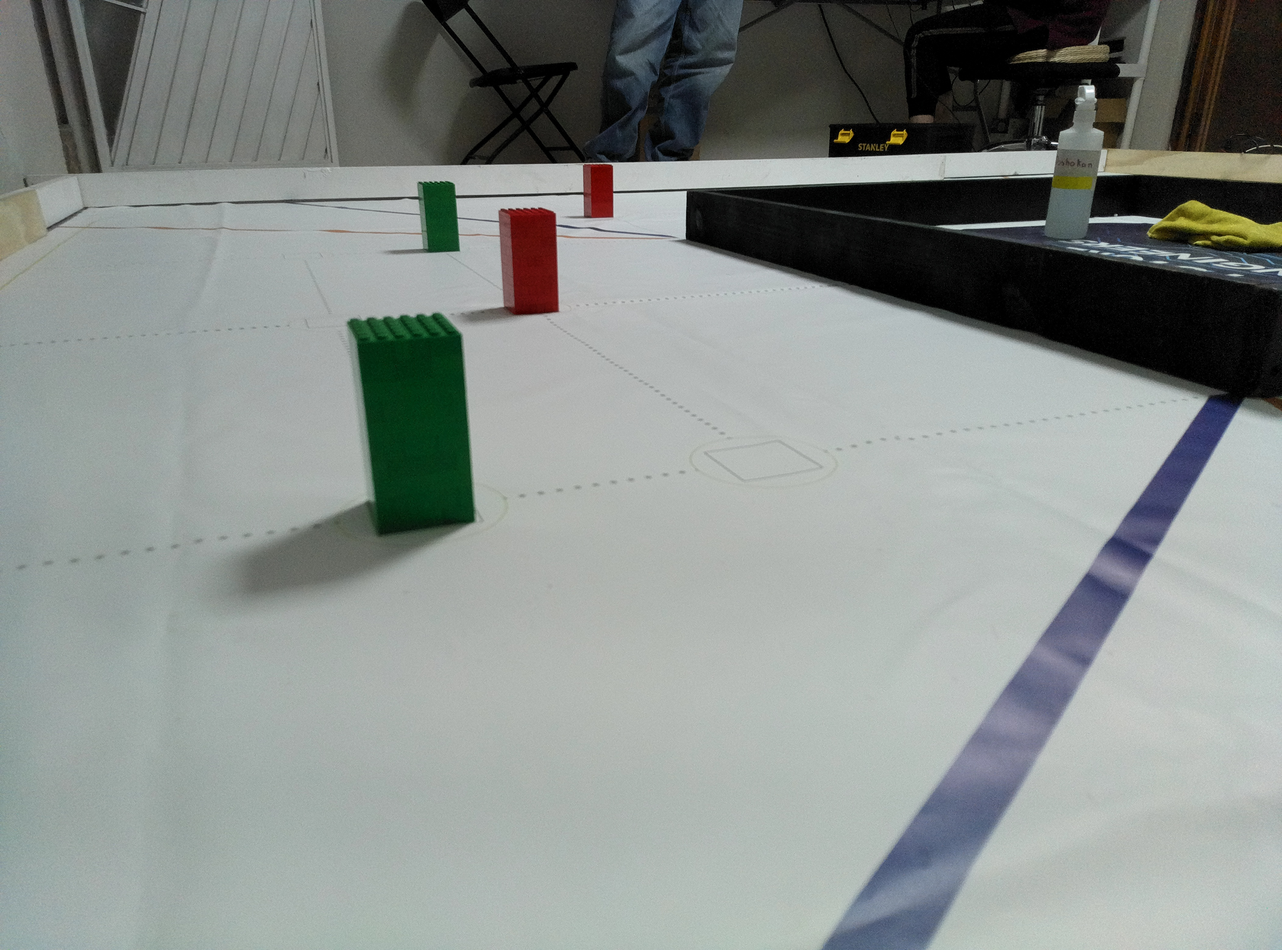greenbox: (346, 307, 477, 542), (415, 180, 461, 254)
redbox: (498, 207, 560, 316), (582, 162, 615, 220)
